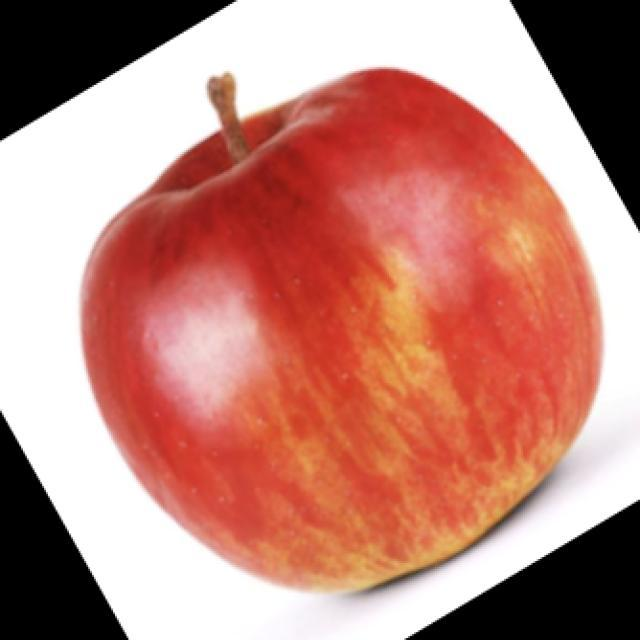Apple: (78, 65, 604, 596)
